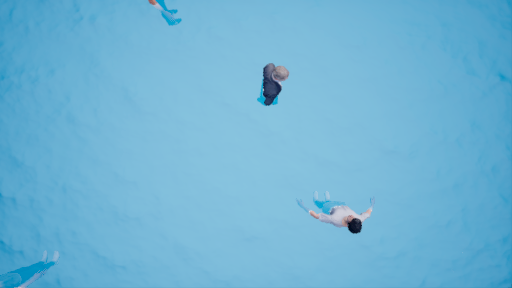person: (288, 181, 382, 238), (251, 54, 294, 118)
